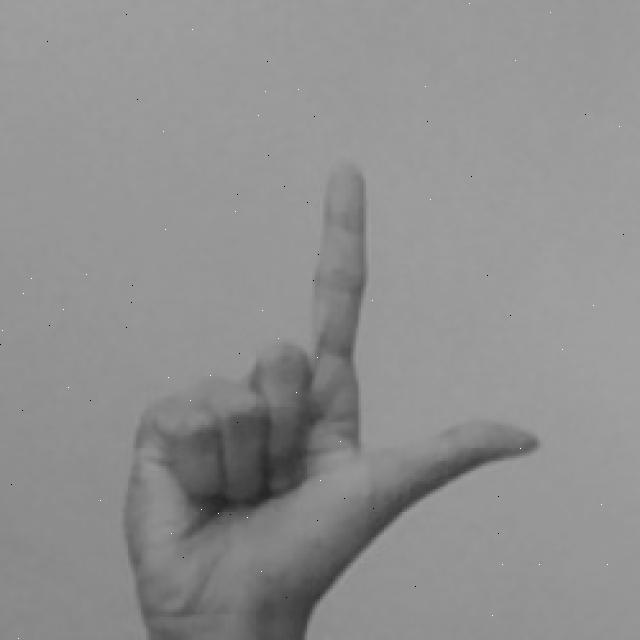L: (118, 147, 550, 640)
